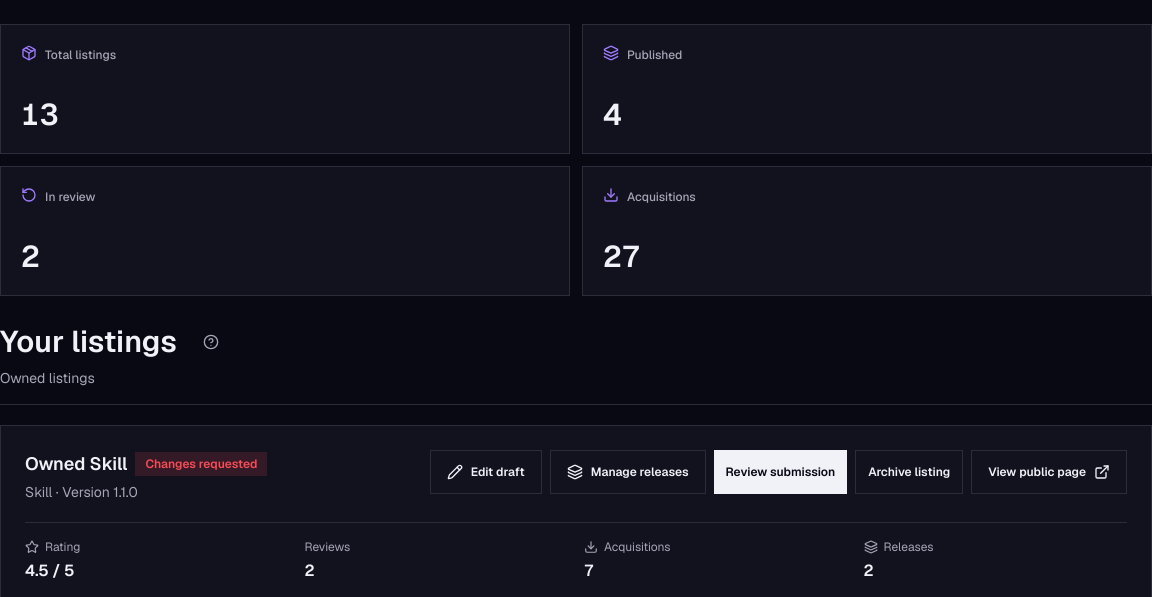
Test: CreatorDashboard › confirms and submits an editable draft with optimistic concurrency
The width and height of the screenshot is (1152, 597).
Check: the heading "Owned Skill" is shown, box [25, 450, 127, 478]
Click the button "Review submission" at [780, 472], box [714, 450, 847, 494]
(page scrolled)
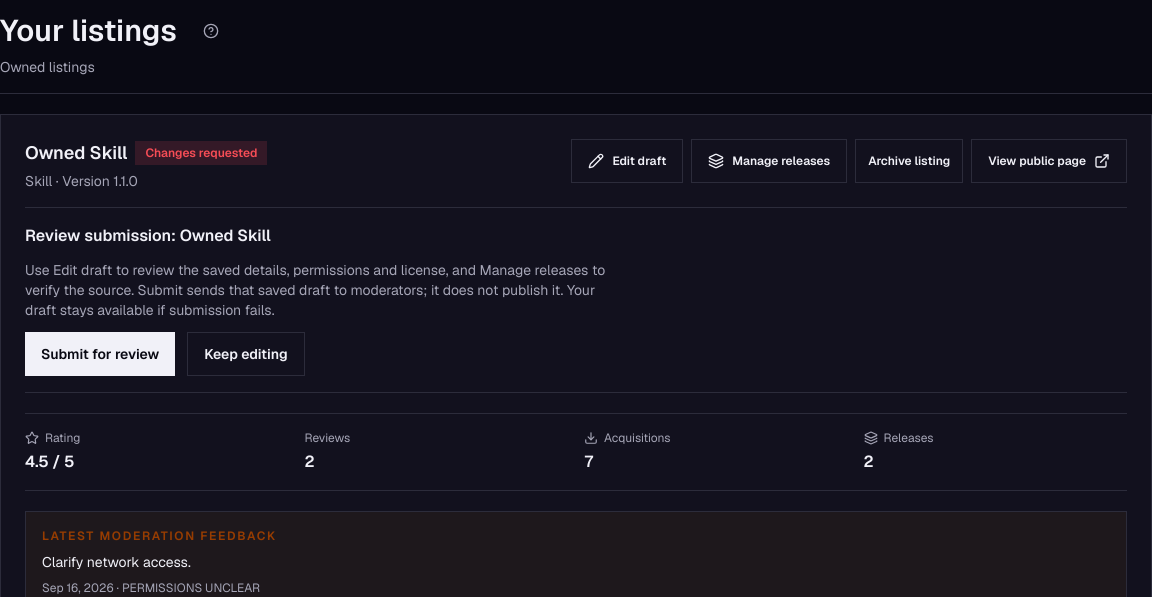
Click the button "Submit for review" at [100, 354], box [25, 332, 175, 376]
(page scrolled)
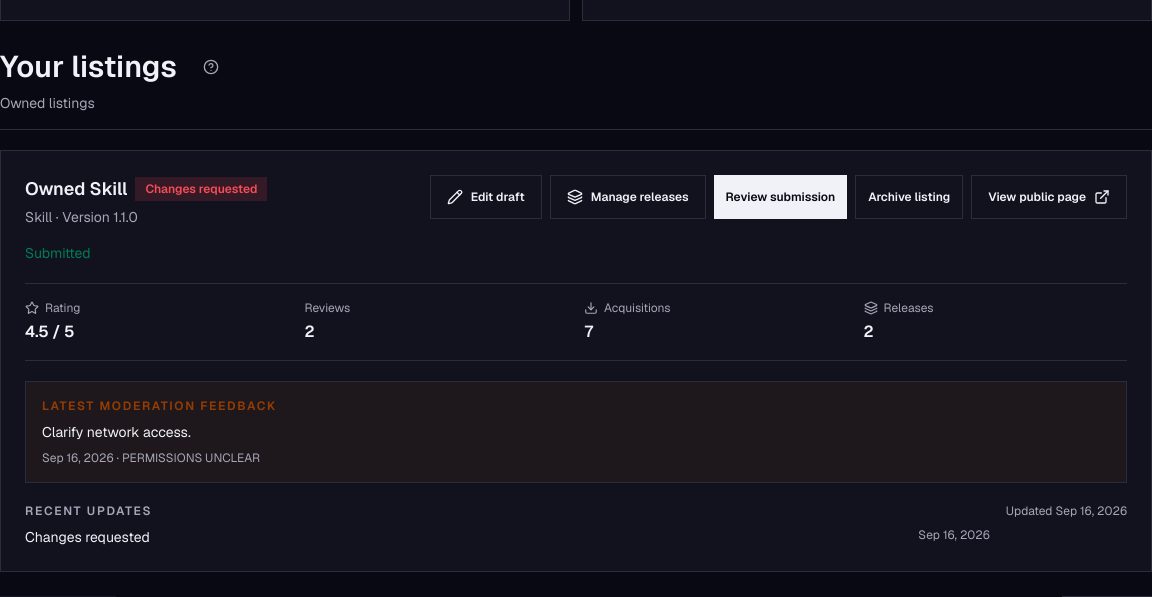
Check: the text "Submitted" is shown, box [25, 244, 91, 262]
